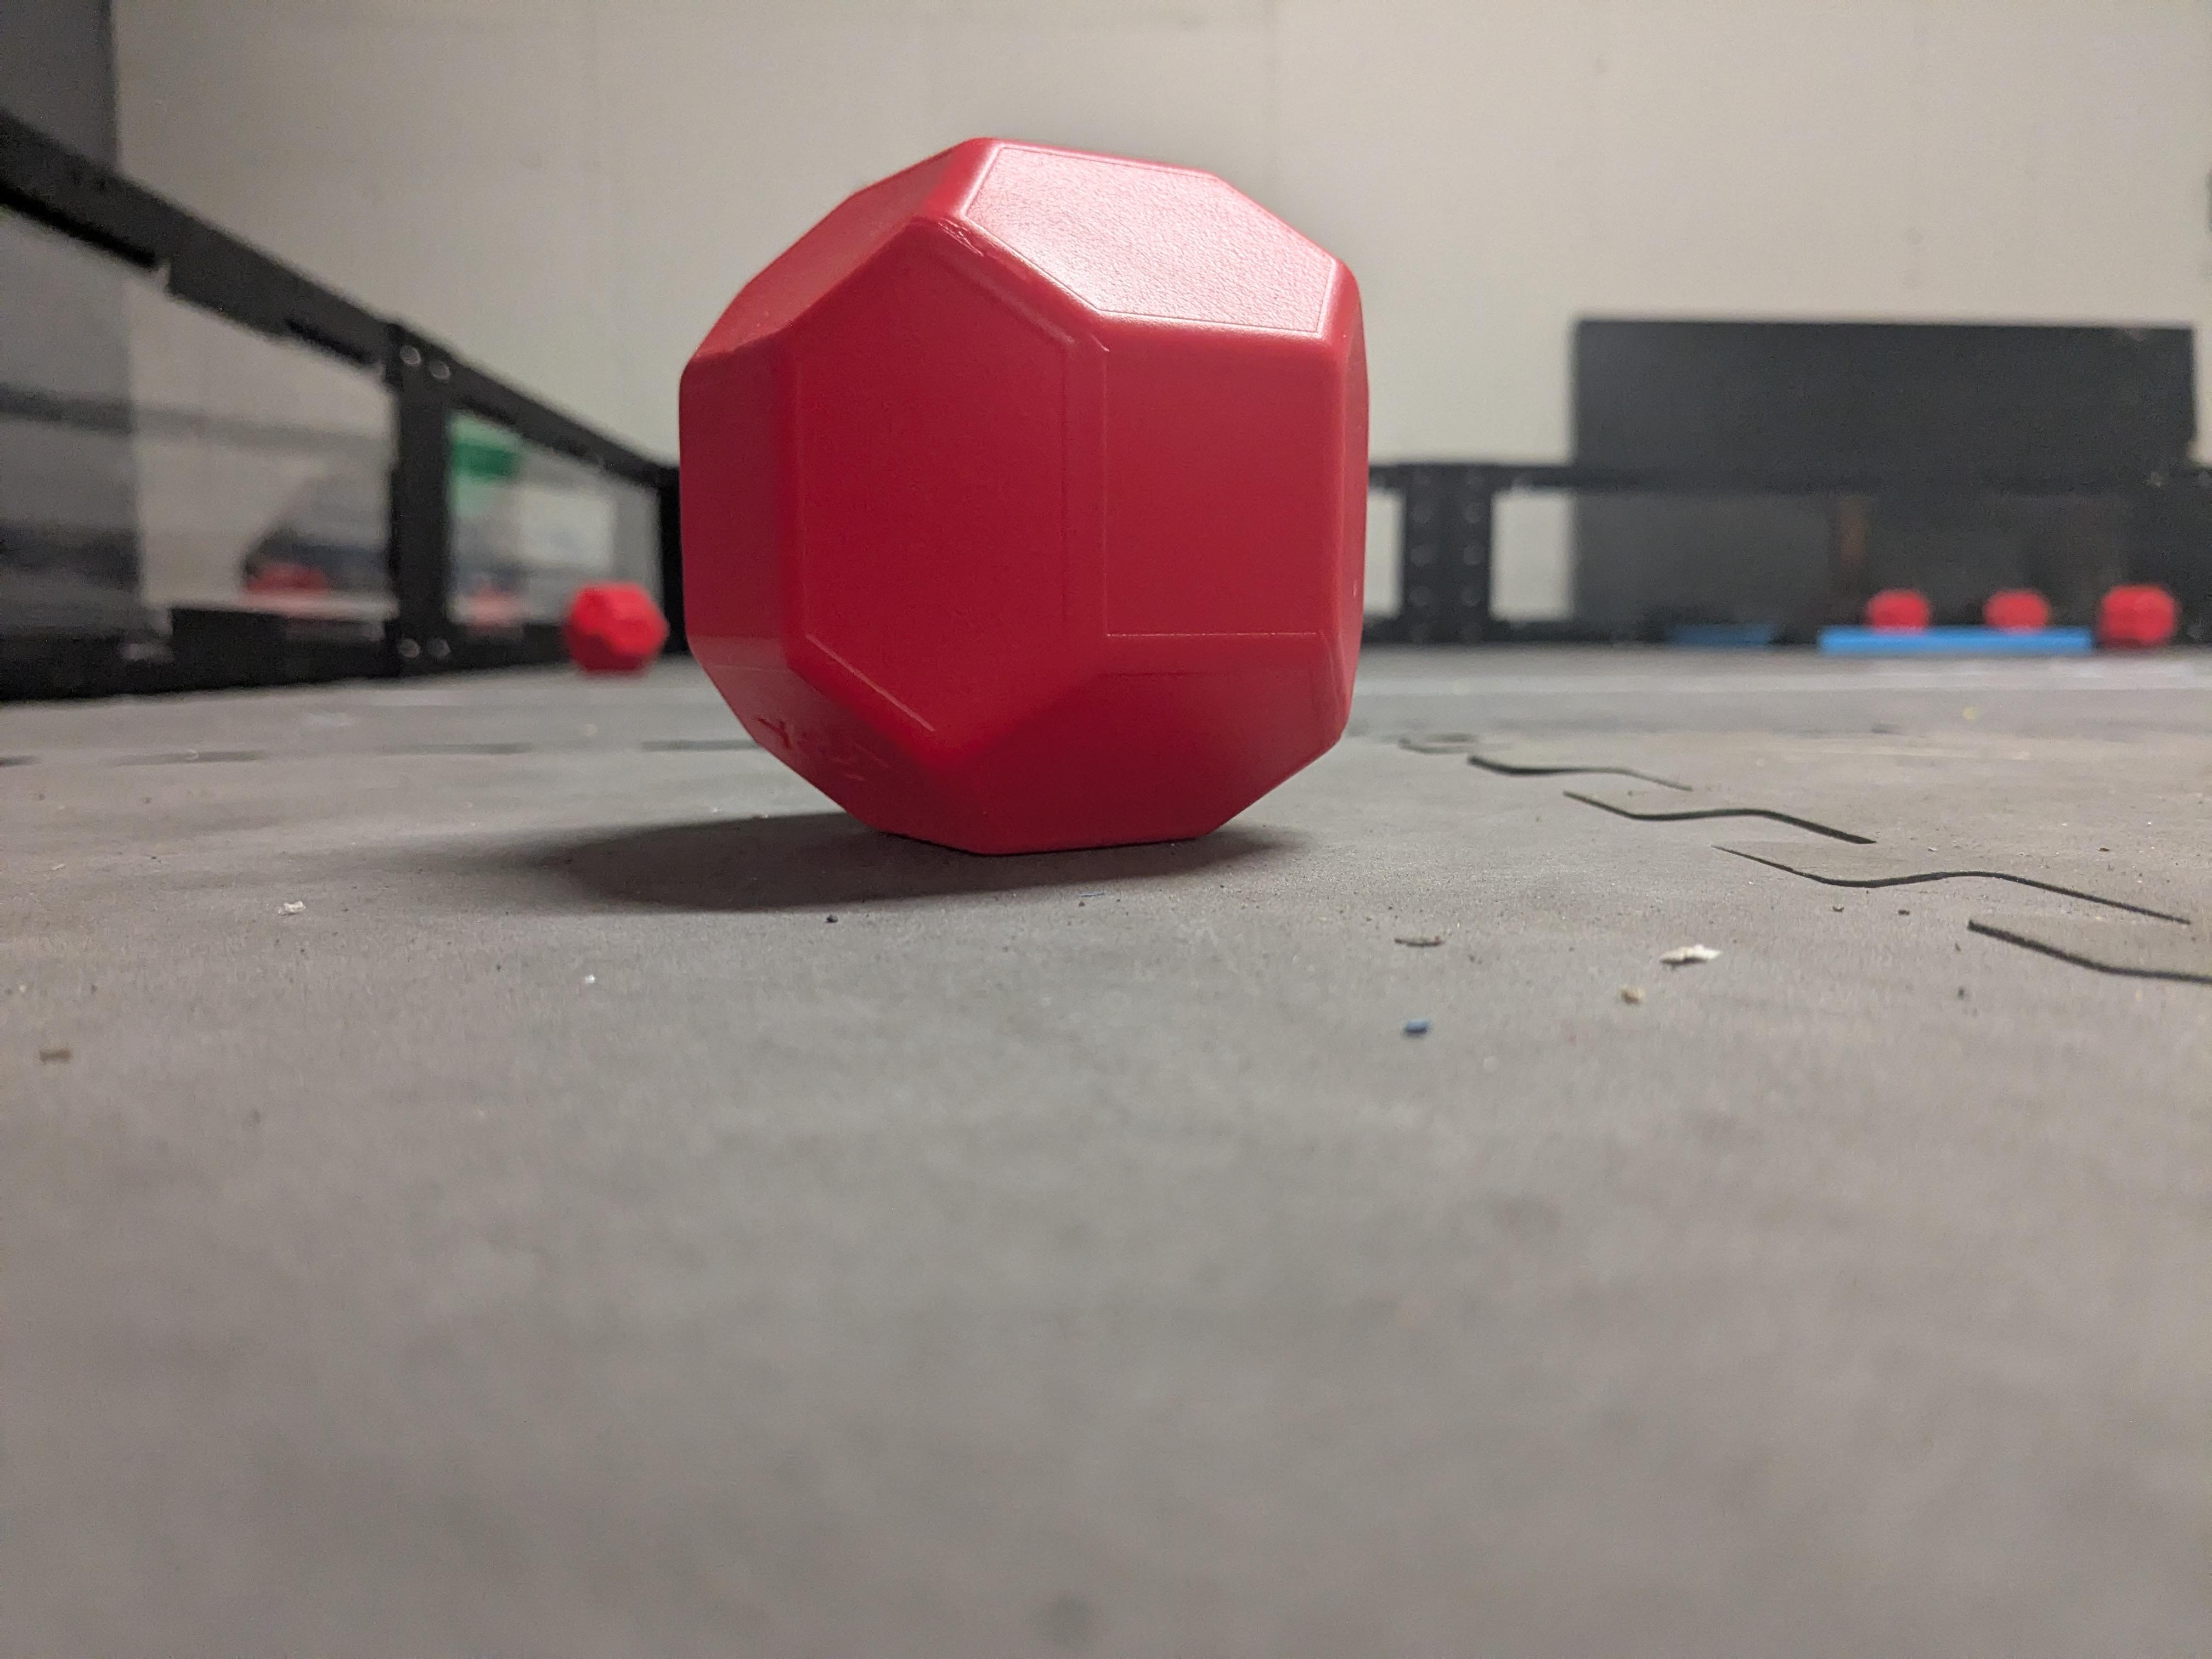Vex-Pieces-RED: (667, 136, 1378, 857)
